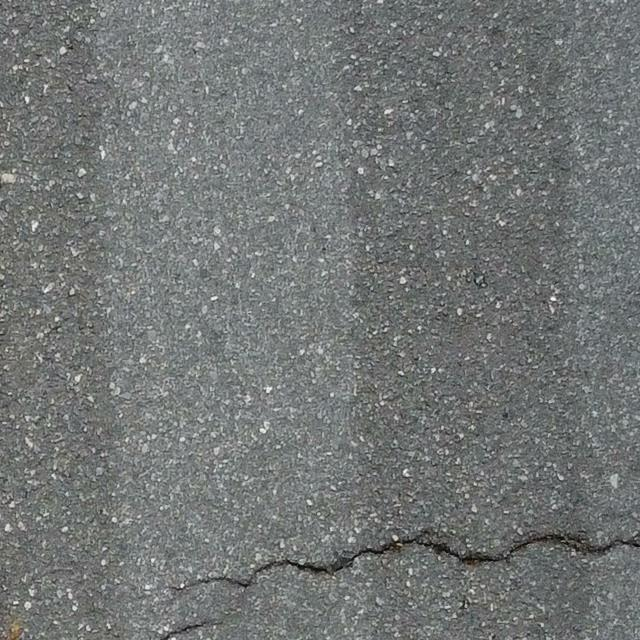TransverseCrack: (172, 530, 640, 597), (159, 619, 213, 640)
